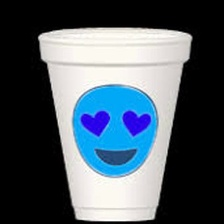paper_cup: (32, 22, 197, 223)
